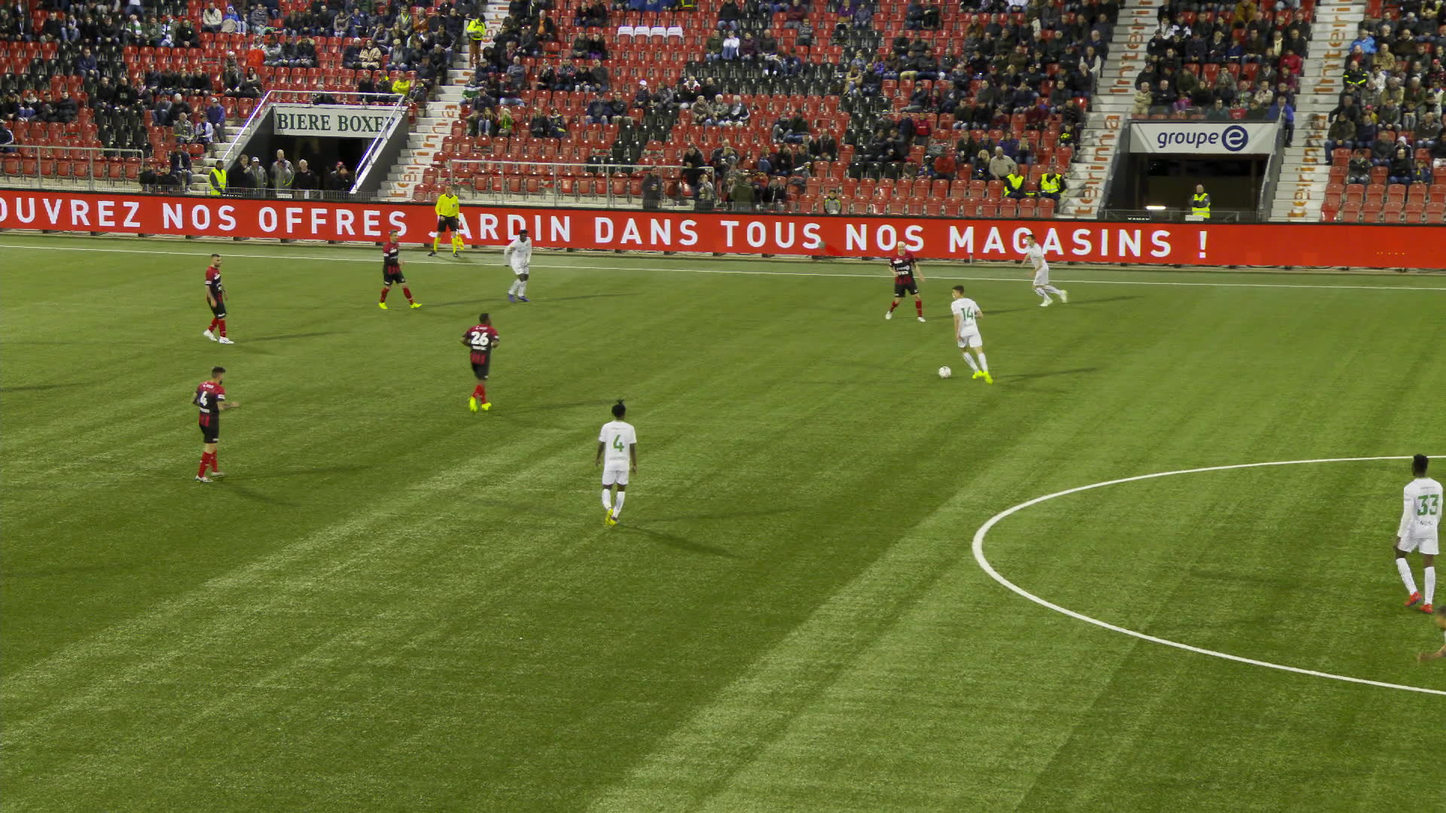ball: (942, 367, 953, 377)
player: (1389, 454, 1443, 612), (187, 367, 235, 482), (593, 398, 636, 526), (948, 286, 991, 382), (457, 315, 496, 413), (378, 230, 420, 309), (1019, 233, 1063, 306), (887, 239, 925, 323), (200, 253, 234, 343), (504, 230, 538, 303), (1421, 626, 1445, 660)
referee: (426, 184, 459, 257)
